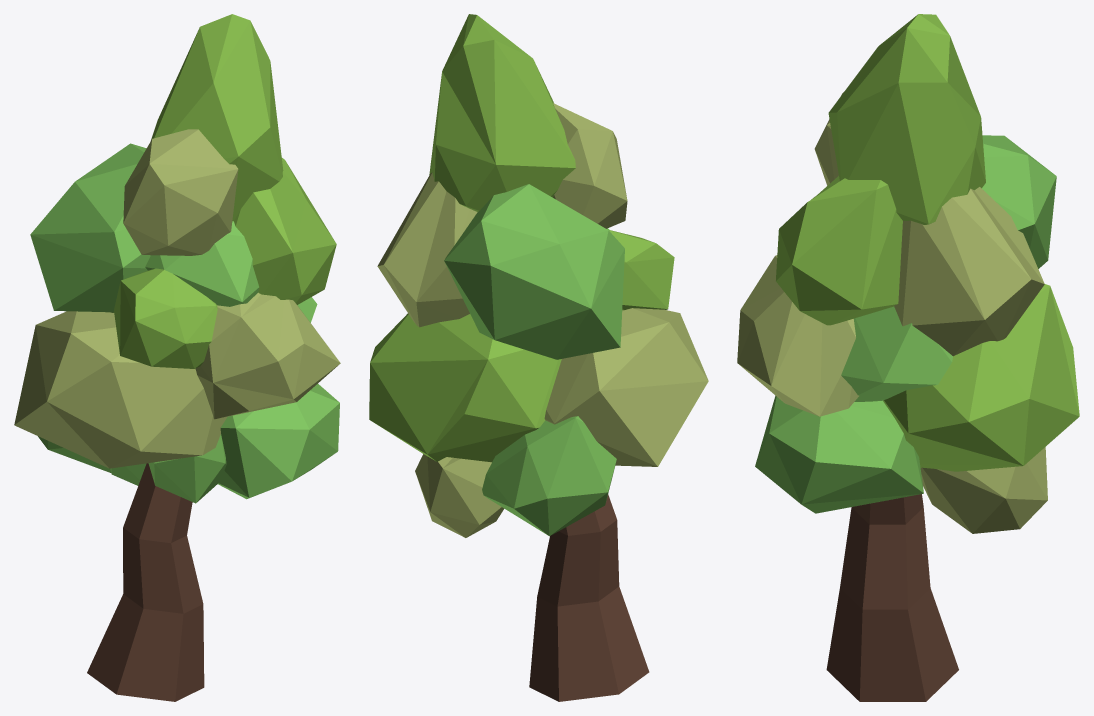
Rendered from Tree6.fbx.
3 renders of one model, left to right at view 1: azimuth 30°, elevation 25°; view 2: azimuth 150°, elevation 25°; view 3: azimuth 270°, elevation 25°, orthographic. The views are drawn at different scales.
Parts seen in each view (by area): view 1: Tree Crown Triangle.002, Tree Trunk, Tree Crown Triangle.007, Tree Crown Triangle.008, Tree Crown Triangle.014, Tree Crown Triangle.018, Tree Crown Triangle.006, Tree Crown Triangle.013, Tree Crown Triangle.009, Tree Crown Triangle.017, Tree Crown Triangle.011; view 2: Tree Crown Triangle.008, Tree Crown Triangle.003, Tree Crown Triangle.007, Tree Trunk, Tree Crown Triangle.002, Tree Crown Triangle.010, Tree Crown Triangle.004, Tree Crown Triangle.018, Tree Crown Triangle.016, Tree Crown Triangle.009; view 3: Tree Crown Triangle.007, Tree Crown Triangle.003, Tree Trunk, Tree Crown Triangle.004, Tree Crown Triangle.013, Tree Crown Triangle.006, Tree Crown Triangle.014, Tree Crown Triangle.016, Tree Crown Triangle.005, Tree Crown Triangle.008, Tree Crown Triangle.018.
Boxes of the visible parts, box(x1,y1,x2,y2) form: Tree Crown Triangle.002: box(14, 311, 227, 468); Tree Trunk: box(87, 463, 204, 701); Tree Crown Triangle.007: box(151, 14, 283, 221); Tree Crown Triangle.008: box(30, 143, 150, 312); Tree Crown Triangle.014: box(195, 292, 340, 419); Tree Crown Triangle.018: box(123, 129, 238, 255); Tree Crown Triangle.006: box(218, 384, 339, 499); Tree Crown Triangle.013: box(234, 157, 336, 304); Tree Crown Triangle.009: box(114, 268, 217, 368); Tree Crown Triangle.017: box(145, 221, 259, 306); Tree Crown Triangle.011: box(148, 434, 226, 503); Tree Crown Triangle.008: box(444, 184, 624, 359); Tree Crown Triangle.003: box(369, 313, 561, 462); Tree Crown Triangle.007: box(429, 14, 575, 211); Tree Trunk: box(529, 494, 649, 701); Tree Crown Triangle.002: box(544, 308, 708, 466); Tree Crown Triangle.010: box(482, 416, 616, 536); Tree Crown Triangle.004: box(377, 172, 477, 327); Tree Crown Triangle.018: box(553, 103, 627, 228); Tree Crown Triangle.016: box(415, 454, 504, 537); Tree Crown Triangle.009: box(609, 230, 674, 310); Tree Crown Triangle.007: box(828, 14, 985, 224); Tree Crown Triangle.003: box(883, 284, 1079, 471); Tree Trunk: box(826, 494, 958, 701); Tree Crown Triangle.004: box(894, 187, 1044, 356); Tree Crown Triangle.013: box(776, 176, 902, 325); Tree Crown Triangle.006: box(755, 395, 923, 513); Tree Crown Triangle.014: box(737, 255, 858, 416); Tree Crown Triangle.016: box(920, 447, 1047, 533); Tree Crown Triangle.005: box(841, 306, 952, 401); Tree Crown Triangle.008: box(982, 135, 1056, 268); Tree Crown Triangle.018: box(814, 92, 843, 185).
Size of the model in its own units: 116 by 251 by 109.
